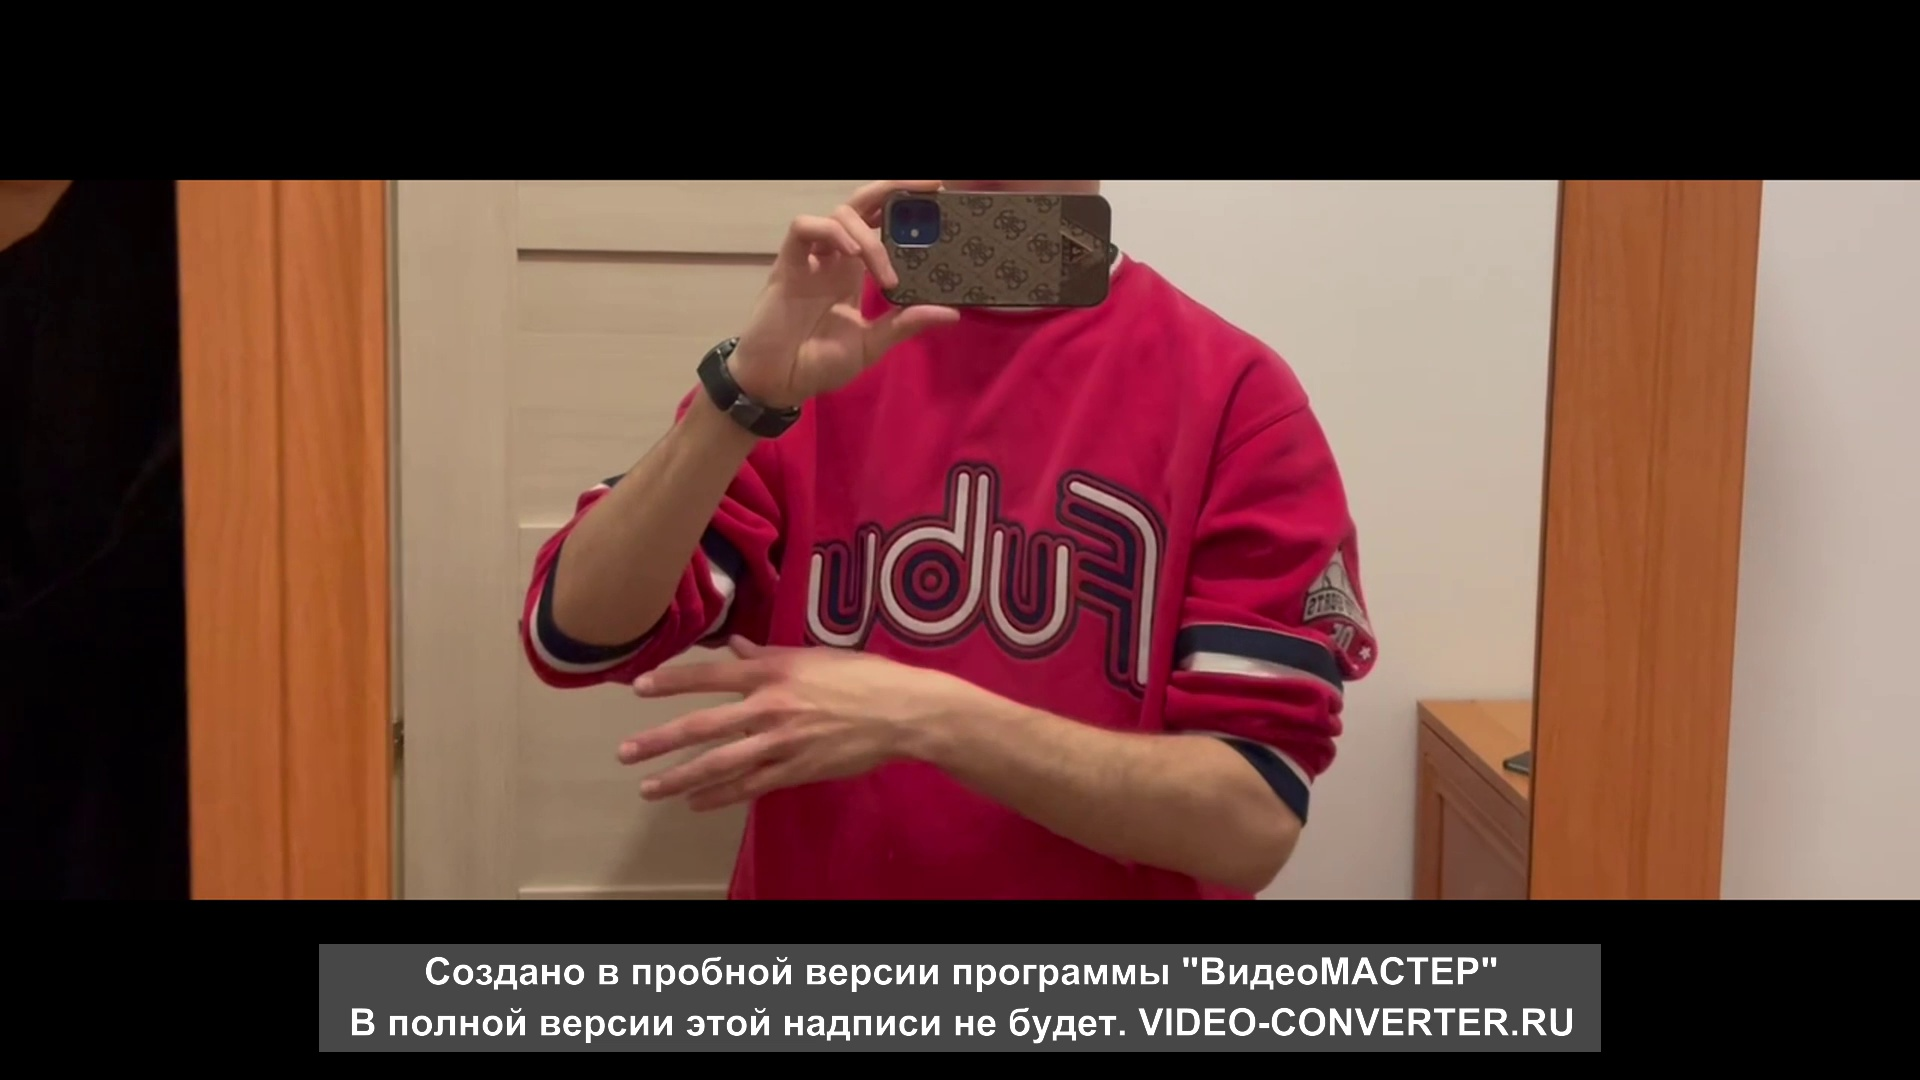Кисть: (620, 637, 909, 811)
